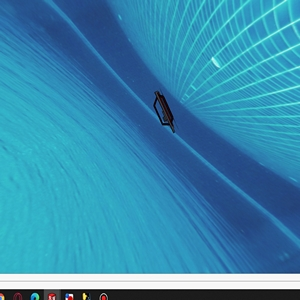submarine: (154, 87, 173, 132)
